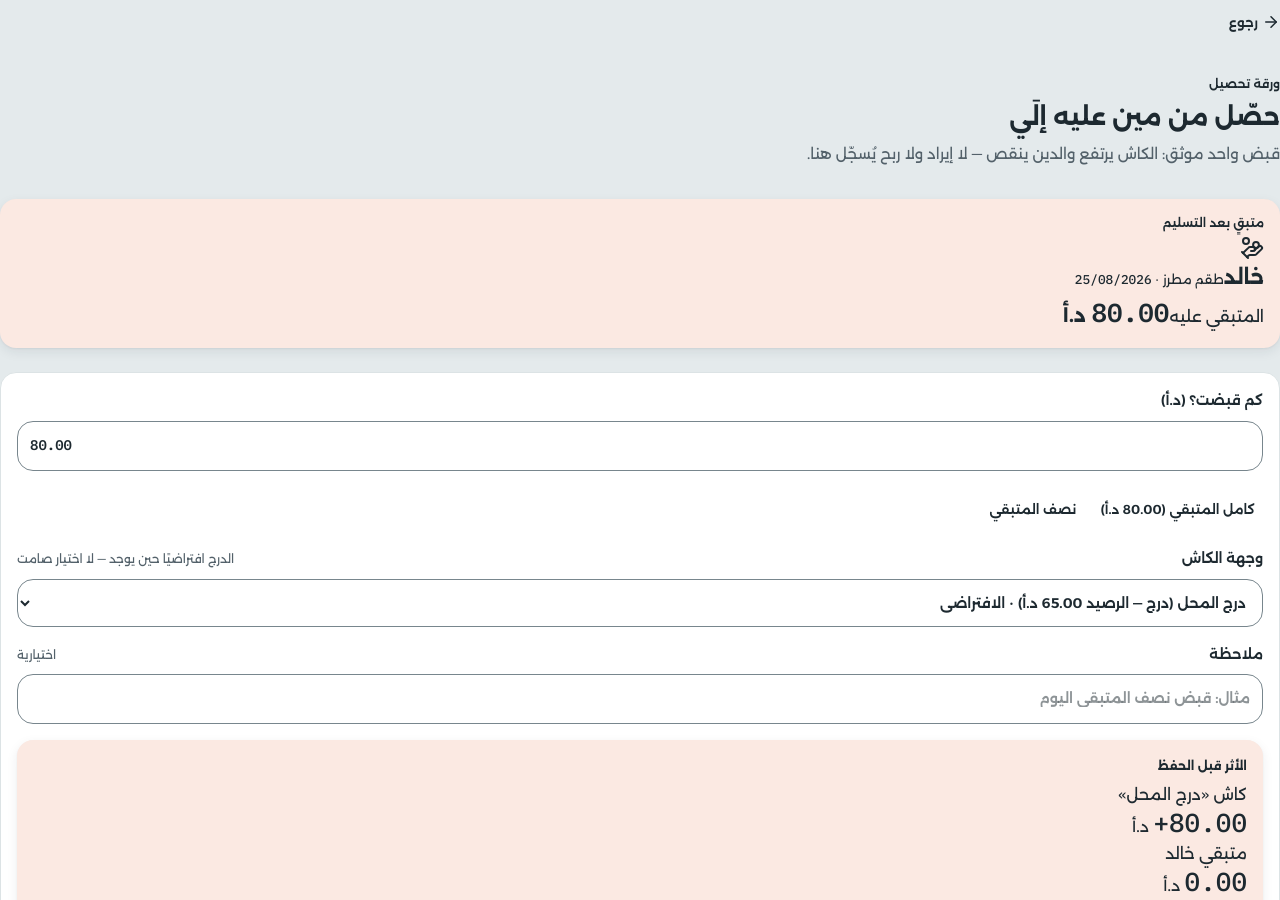
Collect — ورقة التحصيل (المجموعة ٢ §6) › يسجّل القبض ويصدق بالحالة النهائية: الكاش انتقل والمتبقي بقي دينًا
The width and height of the screenshot is (1280, 900).
Expected: the text "خالد" is shown, left=1224, top=236, right=1264, bottom=289
Replace the text in the field named "مبلغ التحصيل" with "30" at (640, 446), box left=17, top=421, right=1263, bottom=471
(page scrolled)
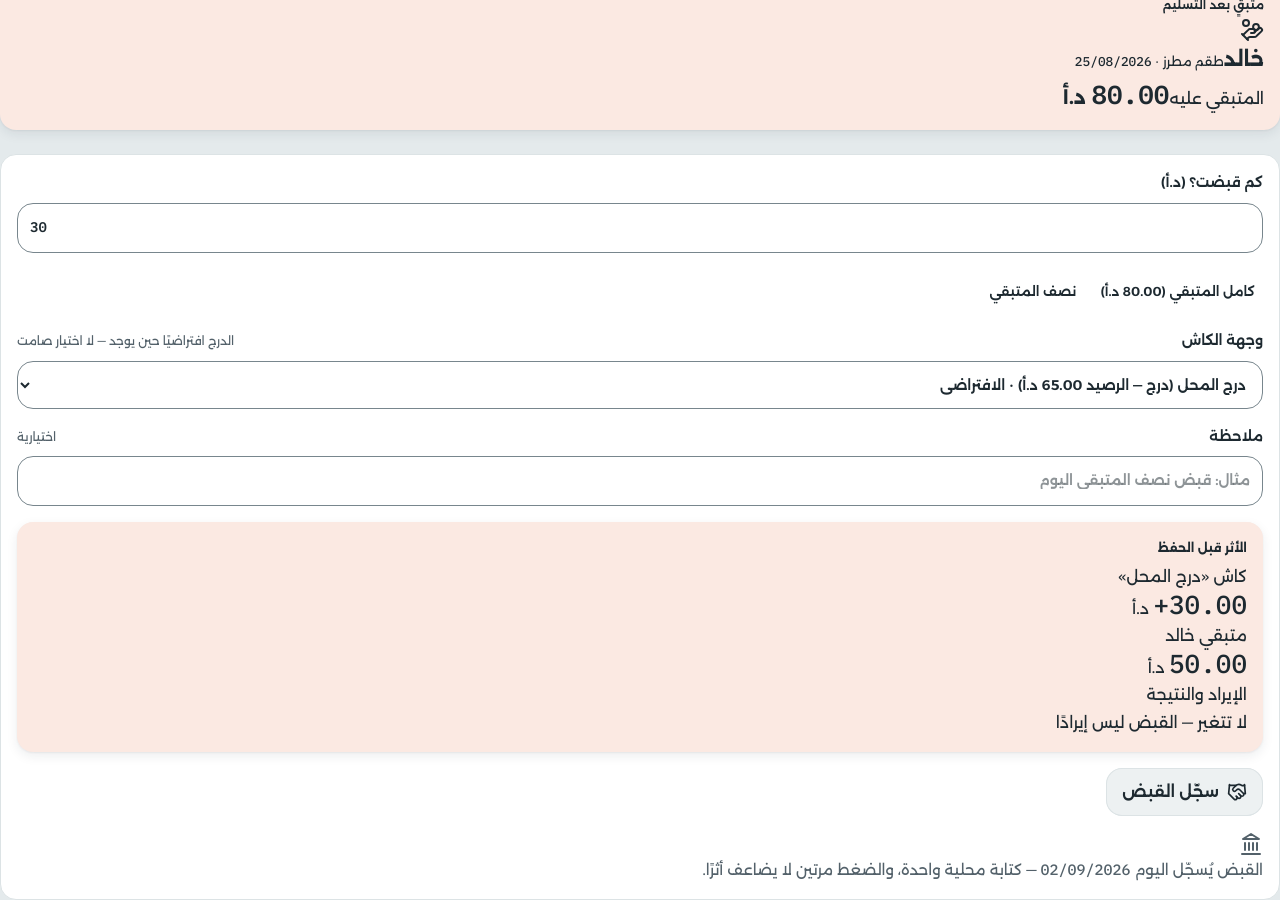
Click the button "سجّل القبض" at (1185, 792), box left=1106, top=768, right=1263, bottom=816
(page scrolled)
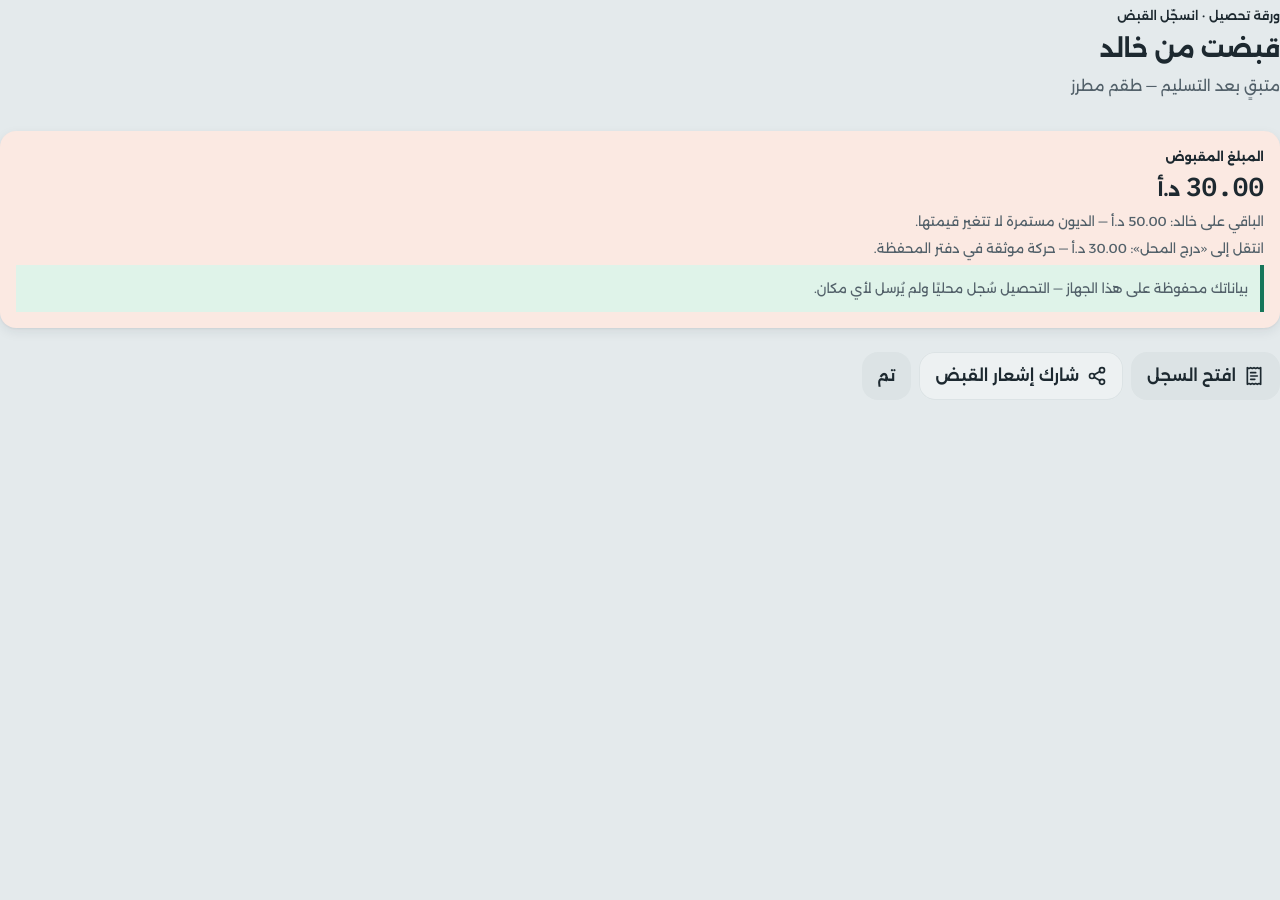
Now the heading "قبضت من خالد" is shown, box left=1100, top=34, right=1279, bottom=63
Now the text "الباقي على خالد: 50.00 د.أ — الديون مستمرة لا تتغير قيمتها." is shown, box left=915, top=213, right=1264, bottom=229
Now the text "انتقل إلى «درج المحل»: 30.00" is shown, box left=874, top=240, right=1264, bottom=256
